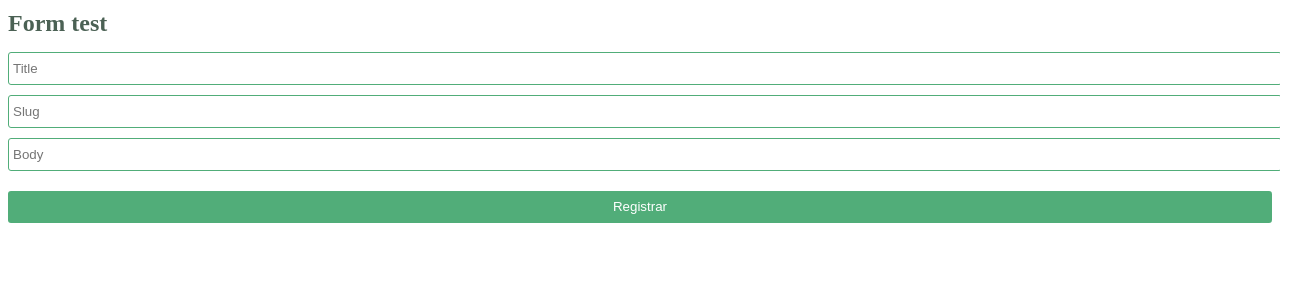
Test case: FormCrearProducto test › should fail on submit all fields missing
Click the submit button: {"x": 640, "y": 207} left=8, top=191, right=1272, bottom=223
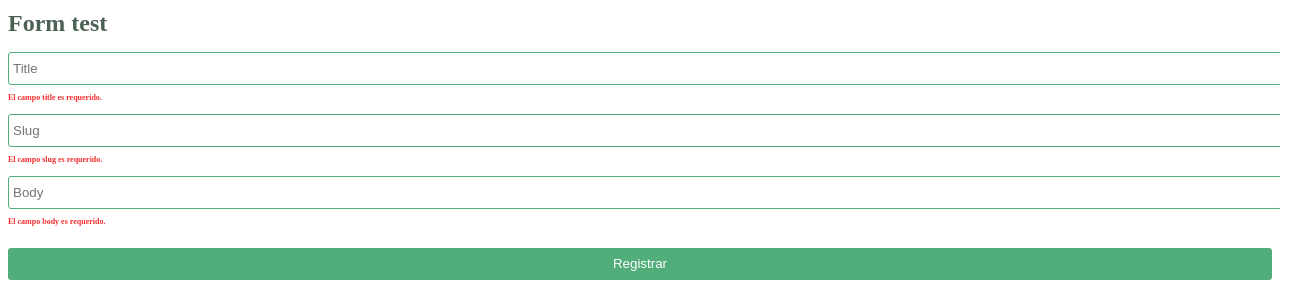
Expected: the text "El campo title es requerido." is shown, left=8, top=93, right=102, bottom=102
Expected: the text "El campo slug es requerido." is shown, left=8, top=155, right=102, bottom=164
Expected: the text "El campo body es requerido." is shown, left=8, top=217, right=105, bottom=226
